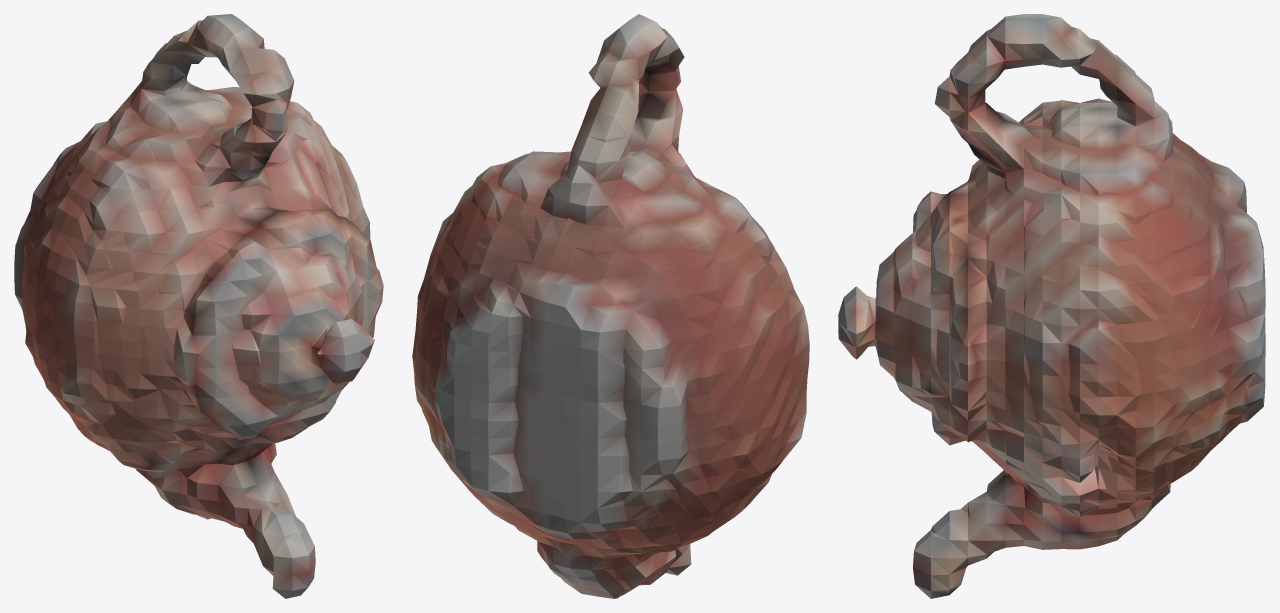
The model's file is assembly.glb.
The picture shows the model from 3 angles, left to right: view 1: azimuth 30°, elevation 25°; view 2: azimuth 150°, elevation 25°; view 3: azimuth 270°, elevation 25°; orthographic projection. The views are drawn at different scales.
Visible parts, largest first — view 1: part-002, part-000, part-001, part-004; view 2: part-002, part-000, part-001, part-004; view 3: part-004, part-002, part-001.
Part boxes in pixels (box(x1,y1,x2,y2)): part-002: box(102, 14, 374, 598); part-000: box(14, 142, 186, 467); part-001: box(47, 48, 264, 511); part-004: box(285, 101, 383, 406); part-002: box(448, 14, 691, 598); part-000: box(631, 194, 809, 544); part-001: box(557, 101, 731, 590); part-004: box(412, 151, 548, 503); part-004: box(901, 168, 1263, 516); part-002: box(838, 14, 1265, 598); part-001: box(913, 98, 1246, 221).
Bounding box in the file's own units: 0.061 × 0.1 × 0.0679.
